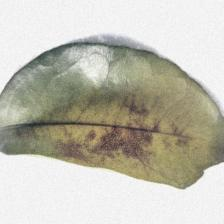black spot: (35, 76, 180, 175)
